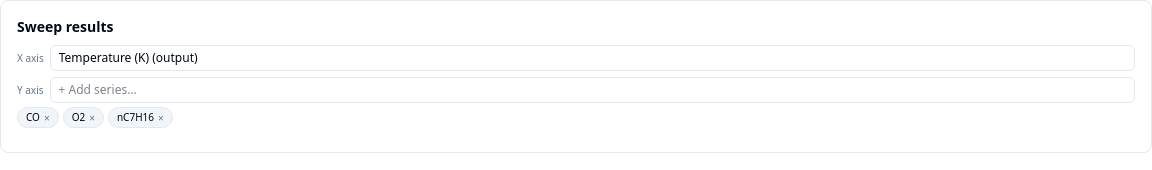
Test: SweepResultsPlot › fuzzy filters › narrows the X axis picker to keys whose label matches the typed text
Replace the text in the dropdown with test id "x-axis-select" with "temp". click: (592, 58)
box: [50,45,1135,71]
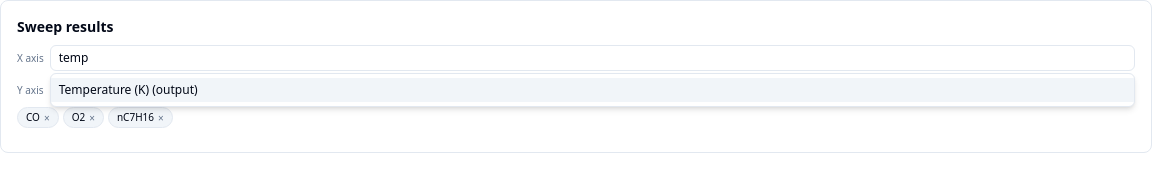
Result: the option with test id "x-axis-select-option-t0_K" is shown at [51,78,1134,102]
Result: the option with test id "x-axis-select-option-final_X_CO" is gone
